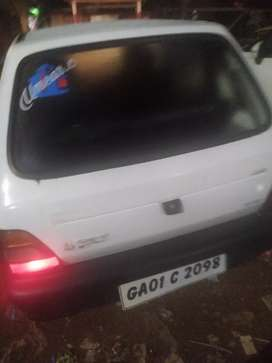GA01C2098: (119, 252, 227, 307)
